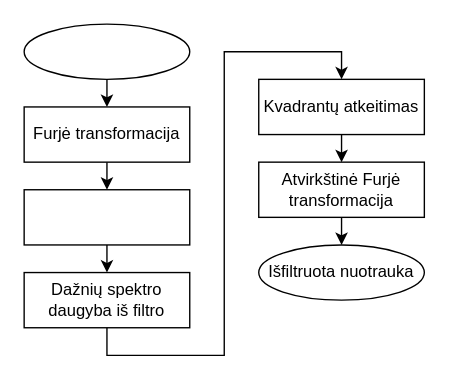
Some shapes in this 449 by 391 pixel diagram are drawn without their labels. The shapes that lost their labels are listed below. From the top down, each one's centre as x and y in pixels, then its label:
(x=106, y=51): Nuotrauka(R kanalas), filtras
(x=106, y=216): Kvadrantų sukeitimas
